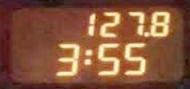-: (141, 30, 149, 37)
1: (85, 13, 95, 37)
2: (98, 10, 120, 37)
3: (54, 42, 79, 76)
5: (122, 41, 147, 76), (95, 41, 119, 76)
7: (126, 10, 145, 36)
8: (148, 10, 169, 37)
X: (82, 48, 92, 65)
